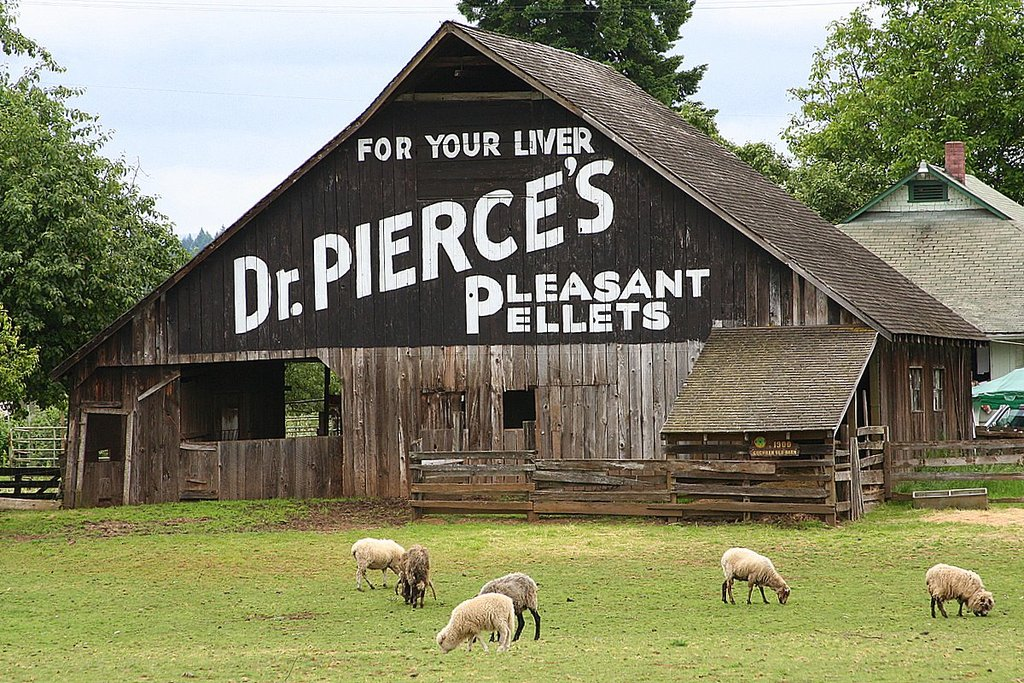sheep: (719, 547, 790, 605), (925, 564, 998, 619), (395, 547, 430, 607)
